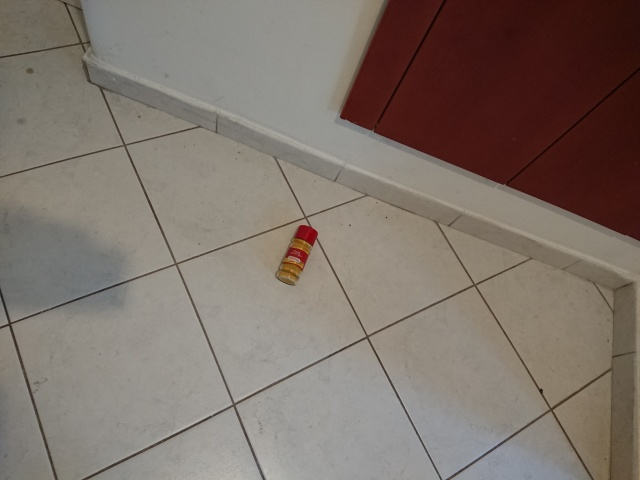Kotanyi Curry Spices Mix 70g: (274, 224, 320, 287)
